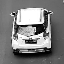motor: (14, 6, 47, 53)
